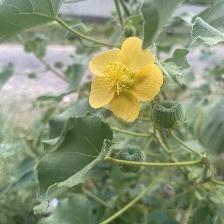indian mallow: (87, 36, 167, 126)
